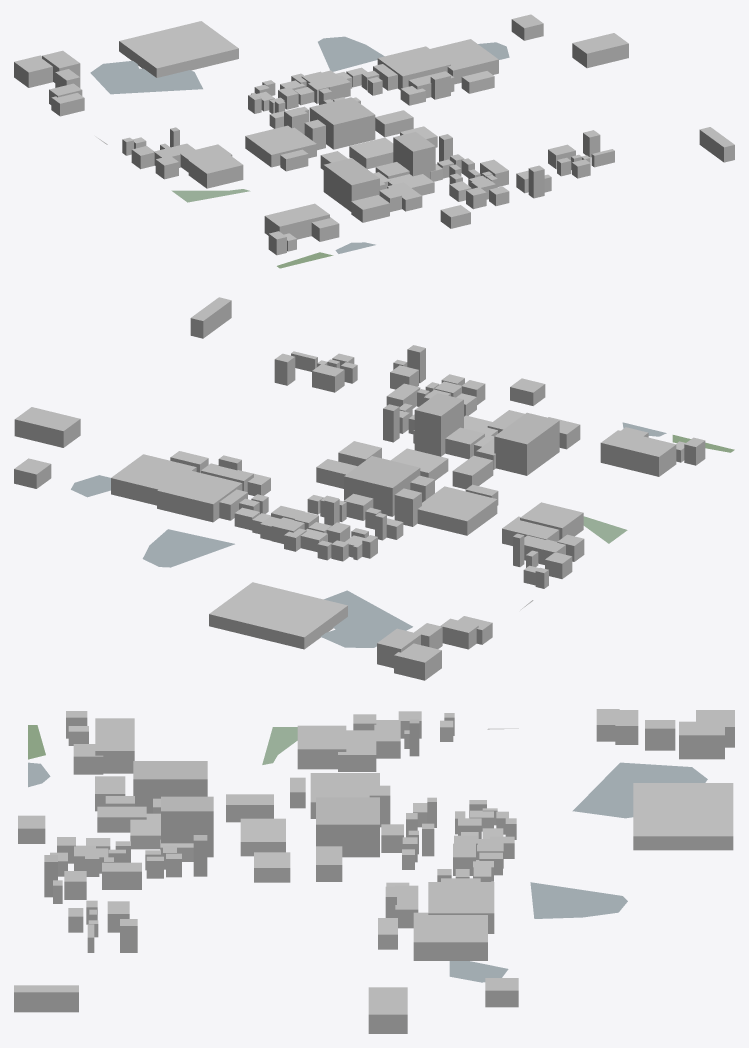
File: 138_84_mid.glb
The picture shows the model from 3 angles, top to bottom: view 1: azimuth 30°, elevation 25°; view 2: azimuth 150°, elevation 25°; view 3: azimuth 270°, elevation 25°; orthographic projection. The views are drawn at different scales.
Bounding box in the file's own units: 526 × 41.02 × 513.
